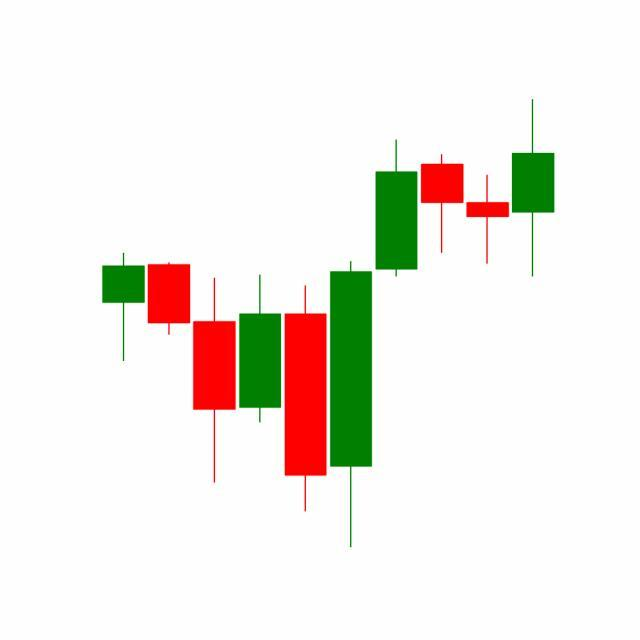Hikkake Pattern: (283, 135, 512, 549)
